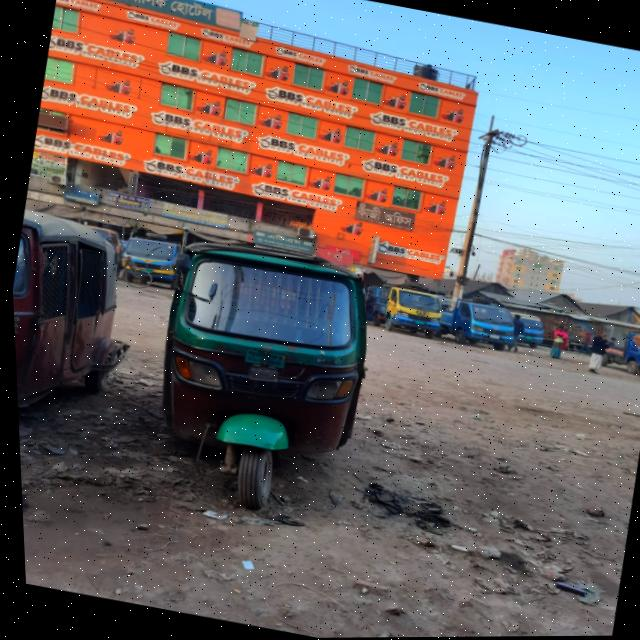cng: (111, 210, 421, 539)
